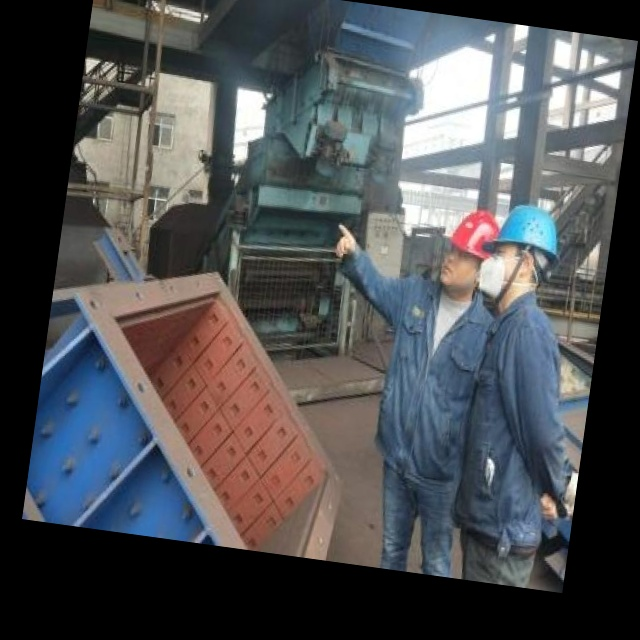Con_Casco: (483, 198, 563, 308)
